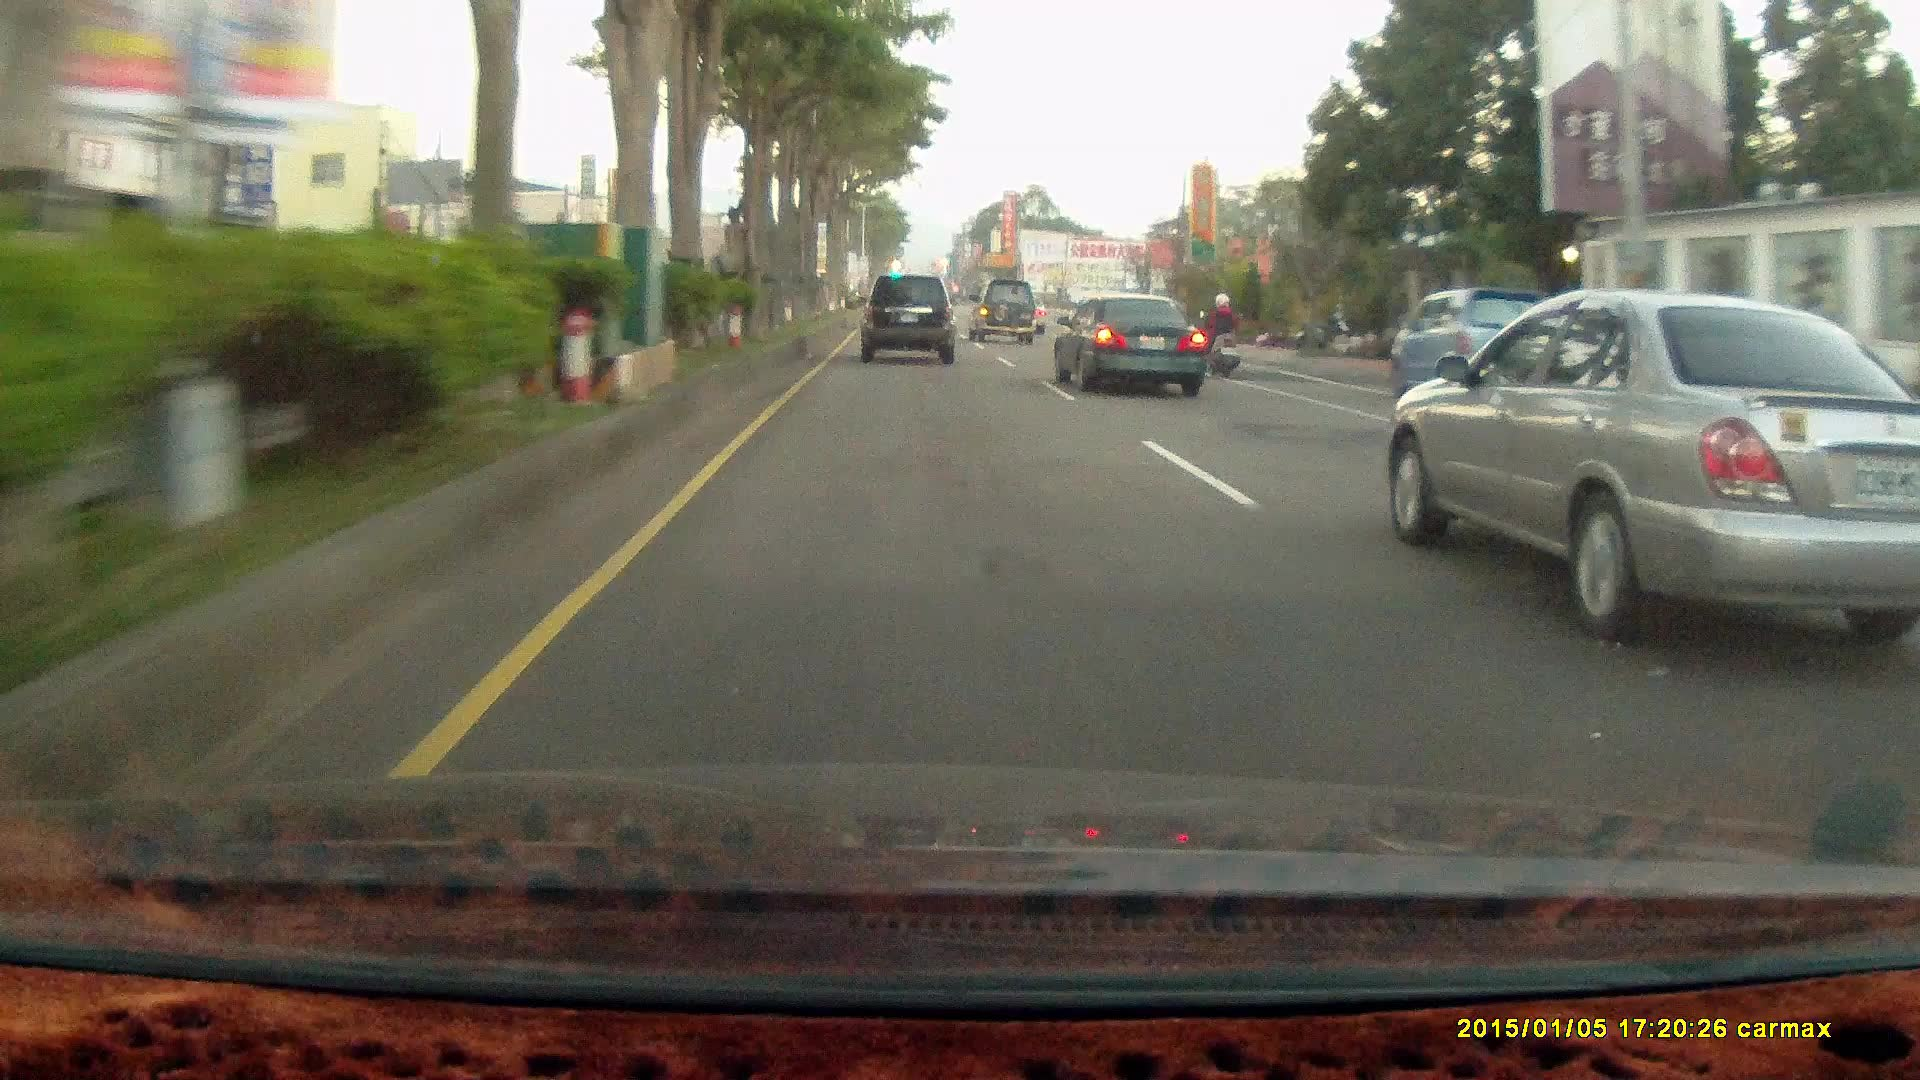rider: (1200, 293, 1244, 381)
vehicle: (1389, 299, 1920, 651), (1385, 285, 1562, 396), (1385, 287, 1564, 394), (1052, 293, 1208, 398), (1057, 296, 1212, 400), (859, 275, 964, 370), (856, 274, 955, 365), (968, 280, 1037, 348), (968, 279, 1037, 343)
